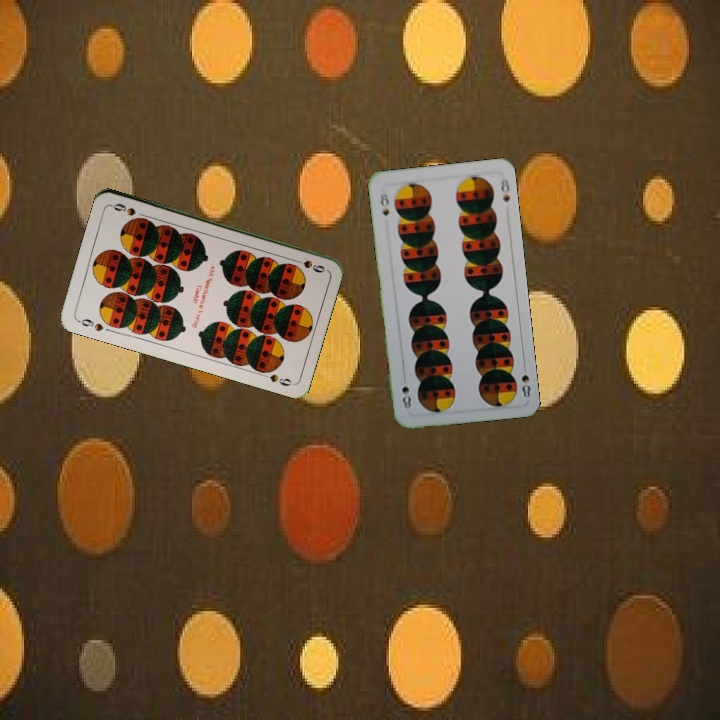S8: (517, 360, 534, 400), (376, 190, 392, 218)
S9: (288, 255, 328, 275), (73, 315, 106, 334)
